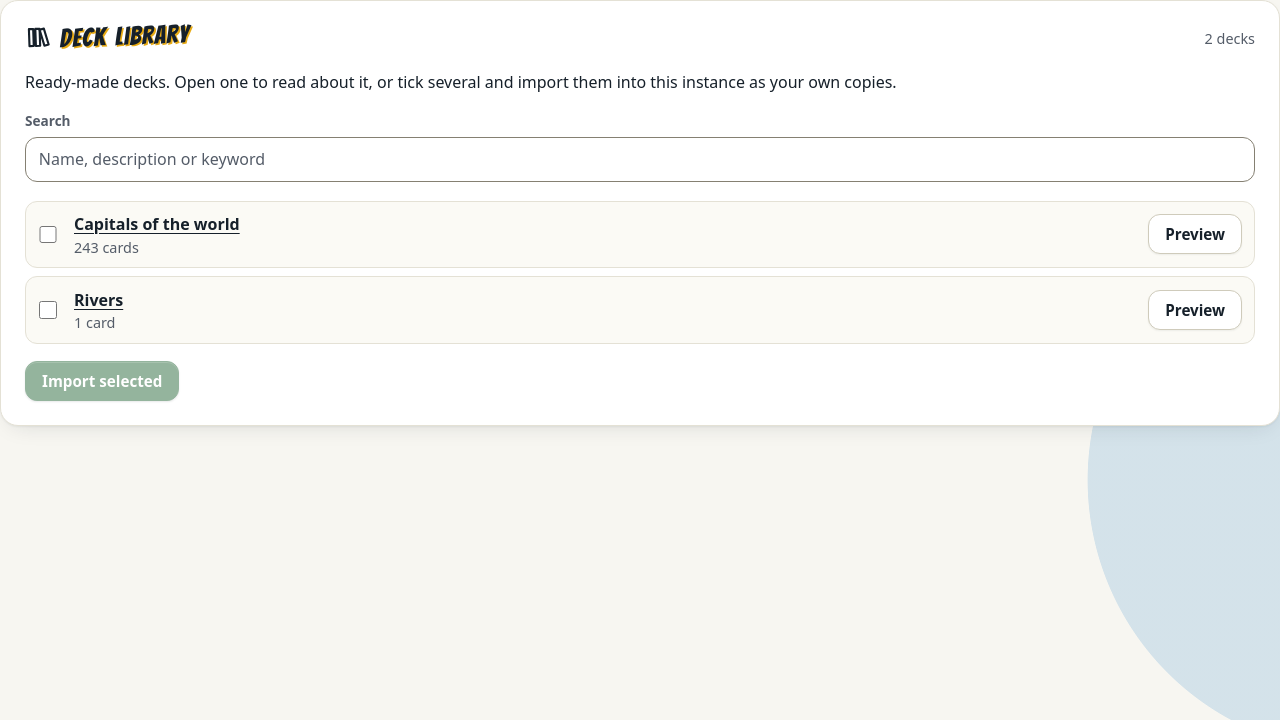
Test: LibraryScreen › imports only the ticked decks the filters still show, and keeps the hidden ones ticked
This screenshot has width=1280, height=720.
Click the checkbox named "Rivers": click(48, 310) x1=39 y1=301 x2=57 y2=319
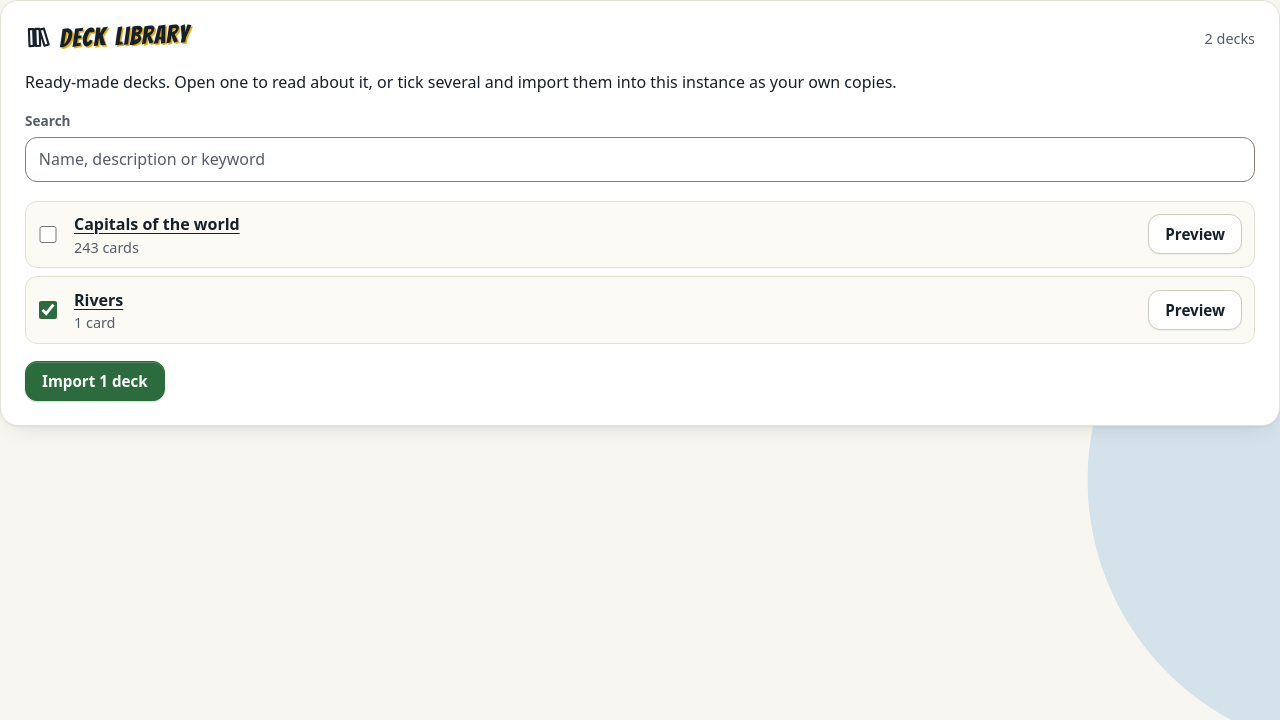
Click the checkbox named "Capitals of the world": click(48, 234) x1=39 y1=226 x2=57 y2=243
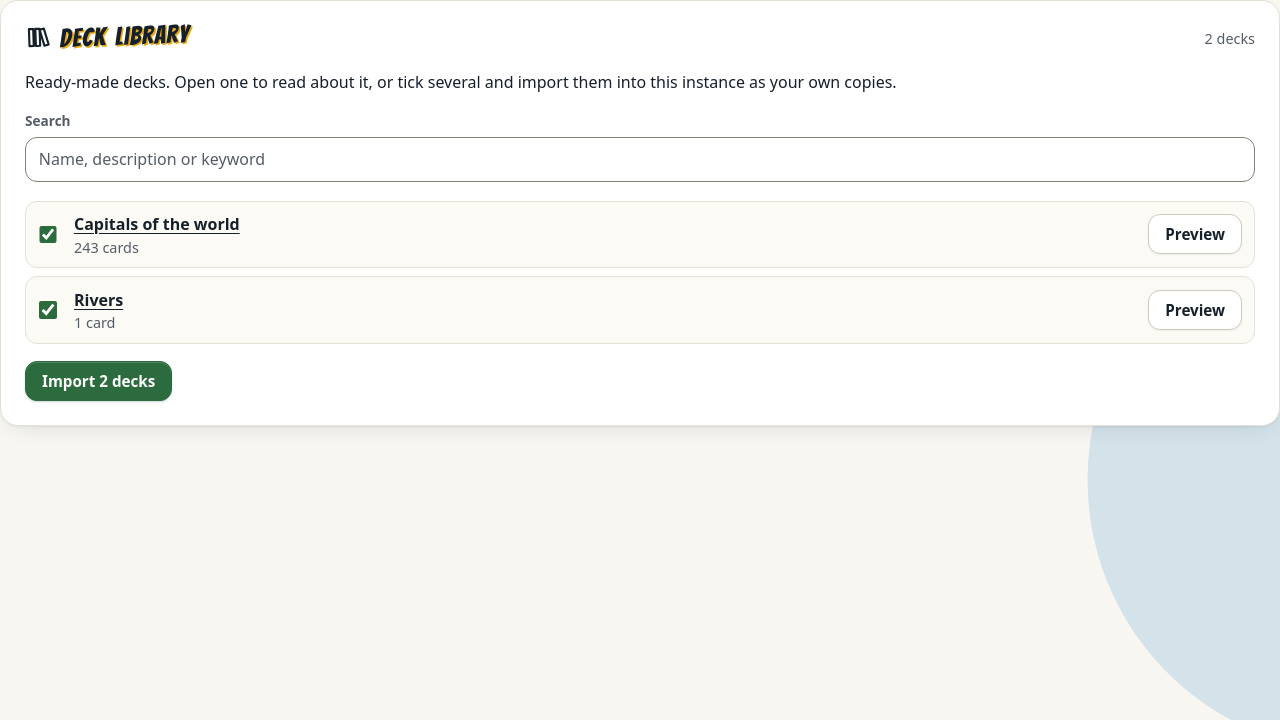
In the search field labelled "Search": (640, 159) x1=25 y1=137 x2=1255 y2=182, type "rivers"
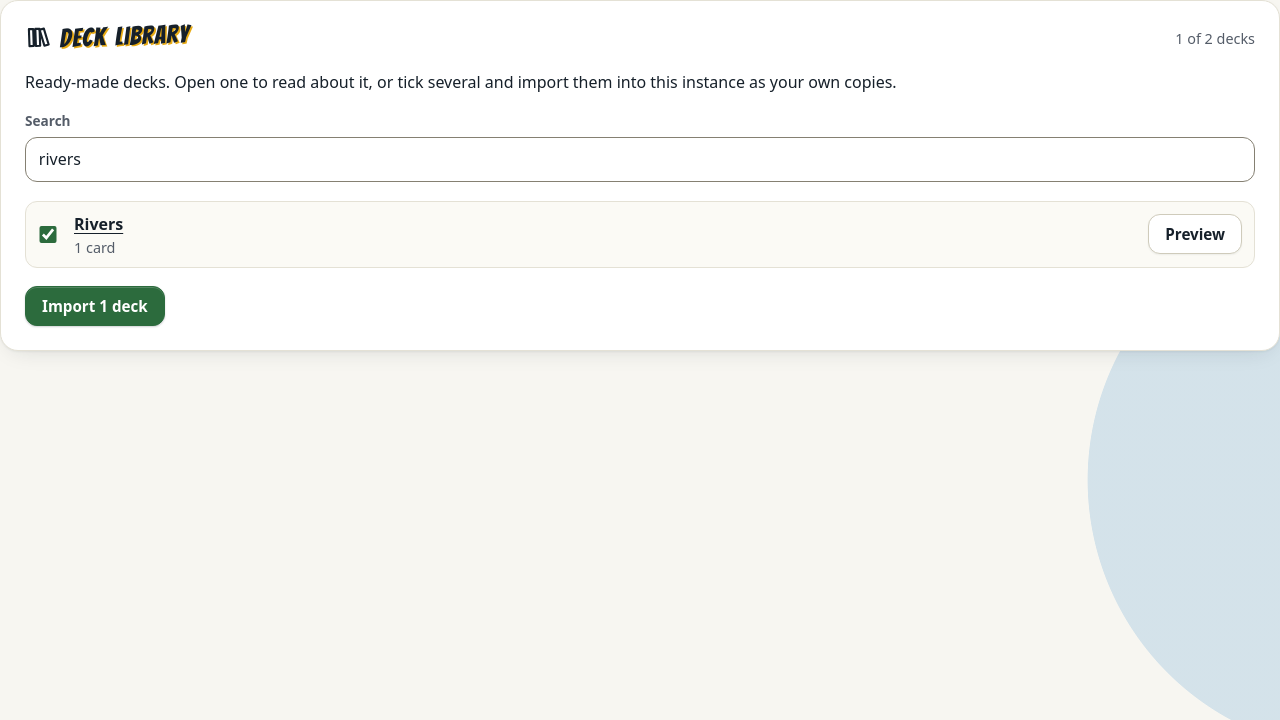
Expected: the button "Import 1 deck" is shown, x1=25 y1=286 x2=165 y2=326
Submit the form "Rivers 1 card Preview Import 1 deck", box x1=25 y1=197 x2=1255 y2=326
Clear the search field labelled "Search": (640, 159) x1=25 y1=137 x2=1255 y2=182
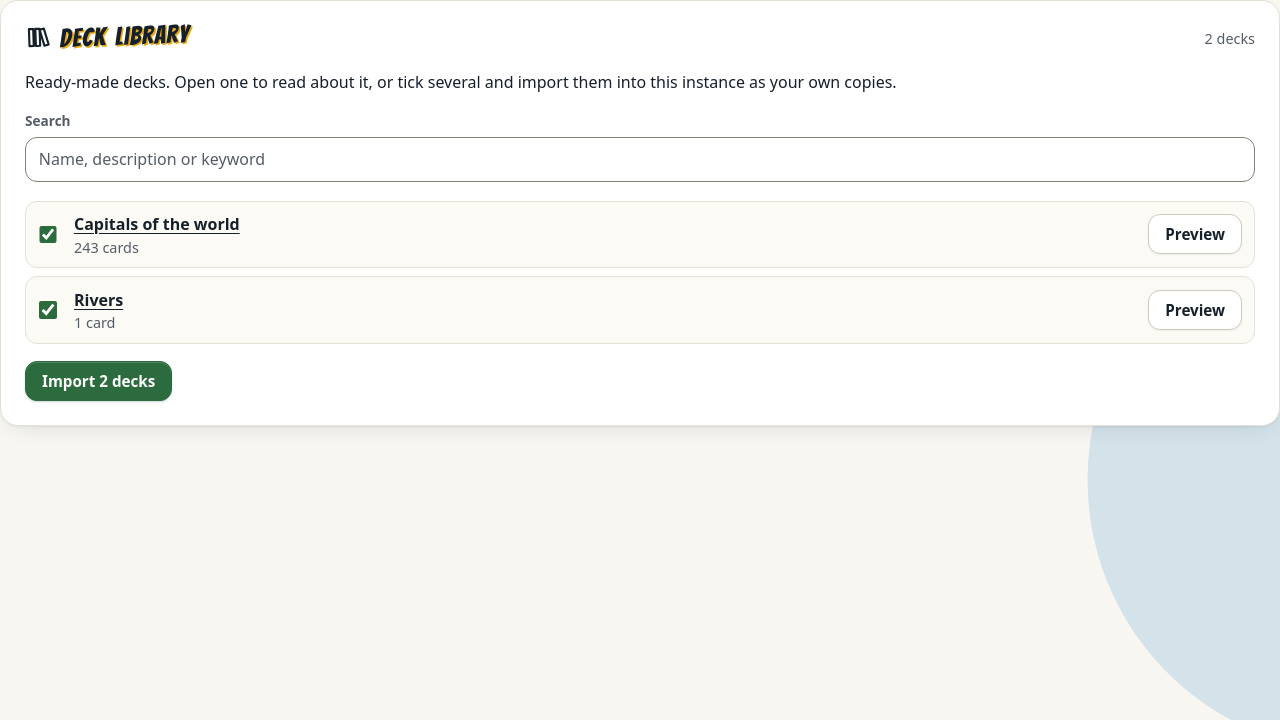
Expected: the checkbox named "Capitals of the world" is checked, x1=39 y1=226 x2=57 y2=243
Expected: the button "Import 2 decks" is shown, x1=25 y1=361 x2=172 y2=401
